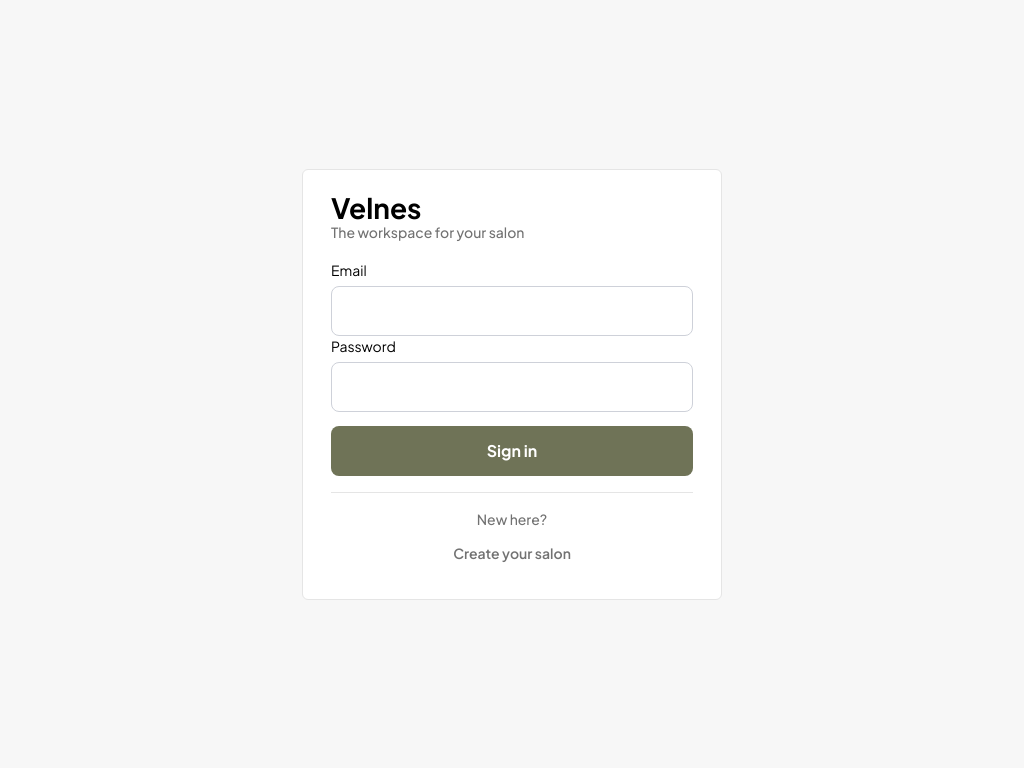
Test case: workspace shell › hides areas the role does not allow
Type "ana@velnes.mk" into the field labelled "Email" at [512, 310], box [331,286,693,336]
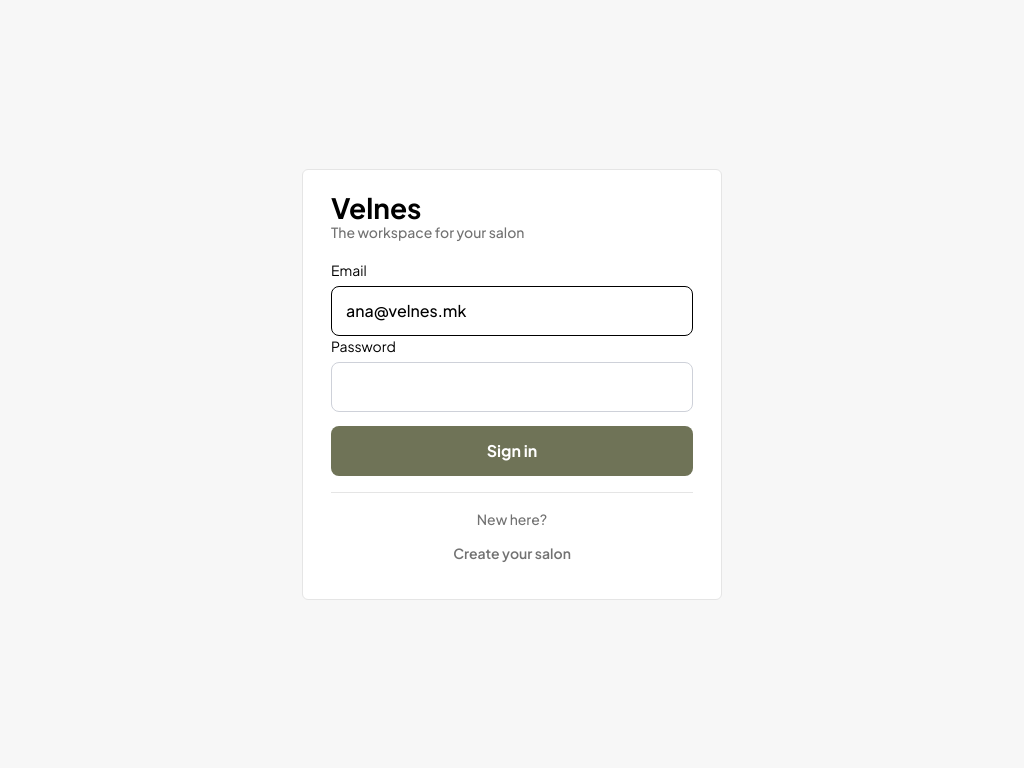
Type "velnes-demo" into the password field labelled "Password" at [512, 386], box [331,362,693,412]
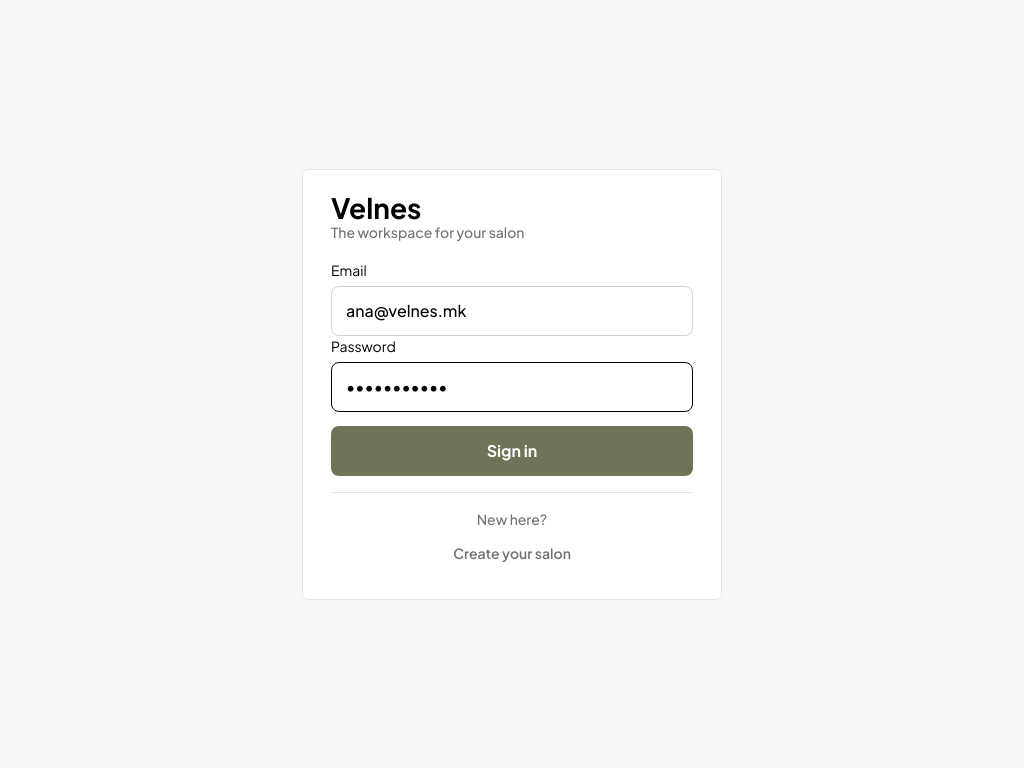
Click the button "Sign in" at [512, 450], box [331,426,693,476]
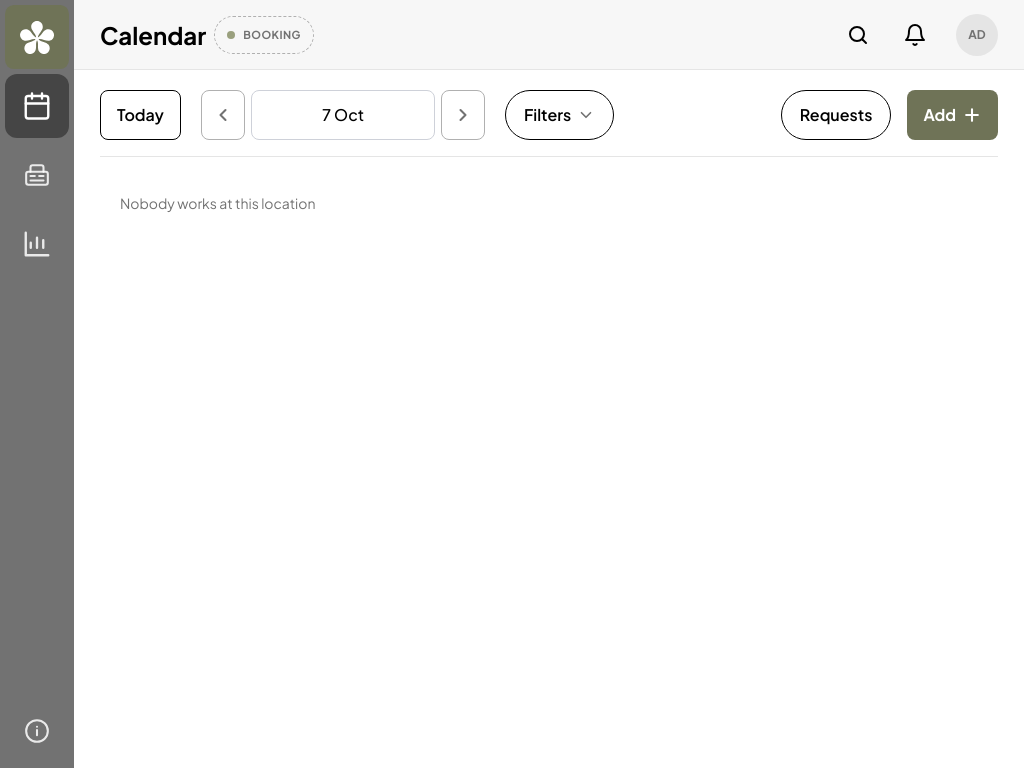
Expected: the button titled "Ana Dimitrova" is shown, [956,14,998,56]
Expected: the button named "Calendar" is shown, [5,74,69,138]
